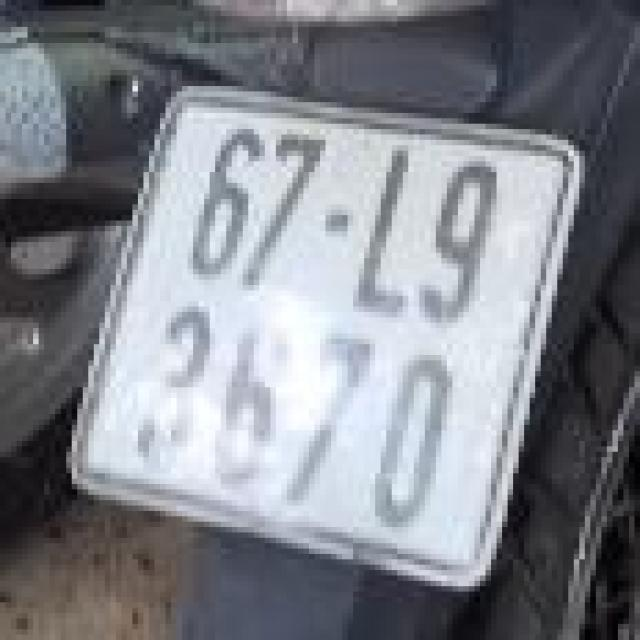0: (358, 339, 468, 536)
3: (120, 297, 227, 473)
6: (203, 307, 306, 497), (181, 118, 276, 287)
7: (276, 319, 385, 517), (231, 119, 333, 291)
9: (406, 141, 520, 338)
L: (333, 134, 449, 326)
